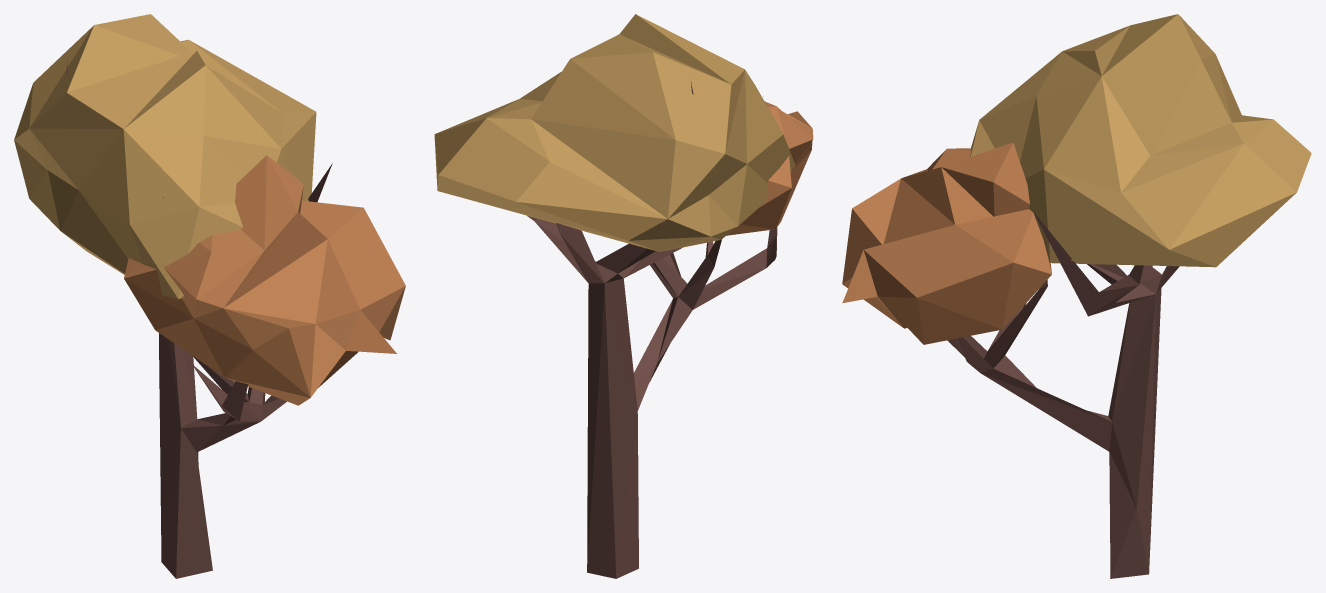
The model's file is CommonTree_Autumn_2.lod3.glb.
The picture shows the model from 3 angles, left to right: view 1: azimuth 30°, elevation 25°; view 2: azimuth 150°, elevation 25°; view 3: azimuth 270°, elevation 25°; orthographic projection. The views are drawn at different scales.
Visible parts, largest first — view 1: CommonTree_Autumn_2; view 2: CommonTree_Autumn_2; view 3: CommonTree_Autumn_2.
Part boxes in pixels (left/top/right/bottom): CommonTree_Autumn_2: left=14, top=14, right=405, bottom=578; CommonTree_Autumn_2: left=434, top=14, right=813, bottom=578; CommonTree_Autumn_2: left=842, top=14, right=1311, bottom=578.
Size of the model in its own units: 1.71 by 3.1 by 2.51.
